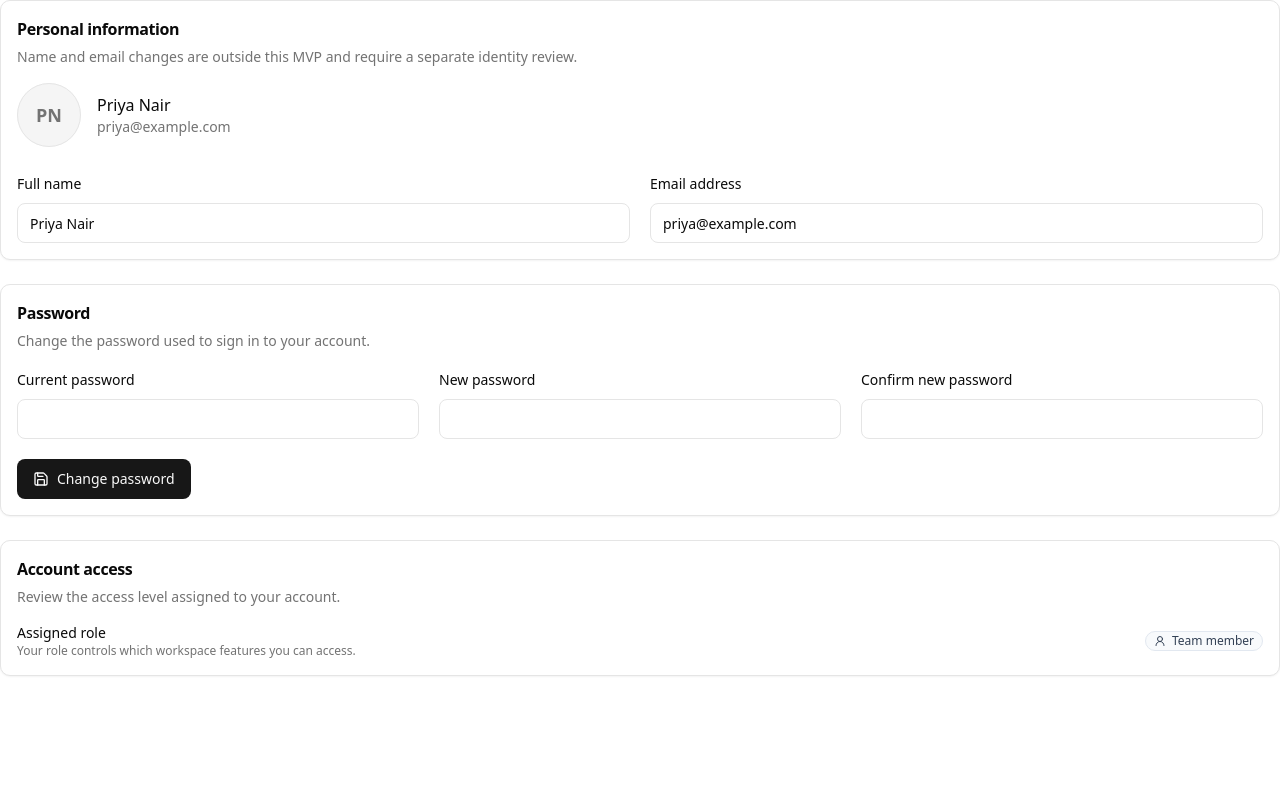
Test case: ProfileSettings › validates matching password confirmation before submitting
Type "Password123!" into the password field labelled "Current password" at (218, 419), box [17,399,419,439]
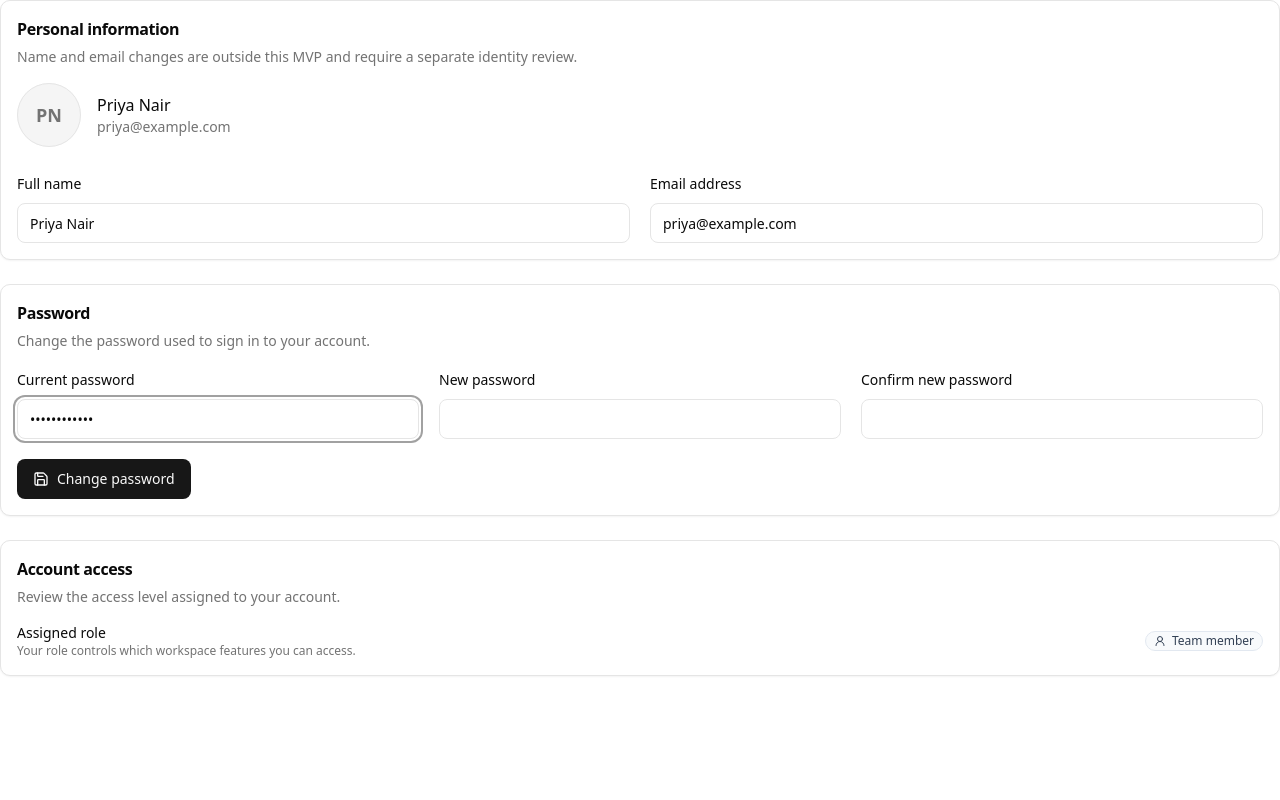
Type "NewPassword123" into the password field labelled "New password" at (640, 419), box [439,399,841,439]
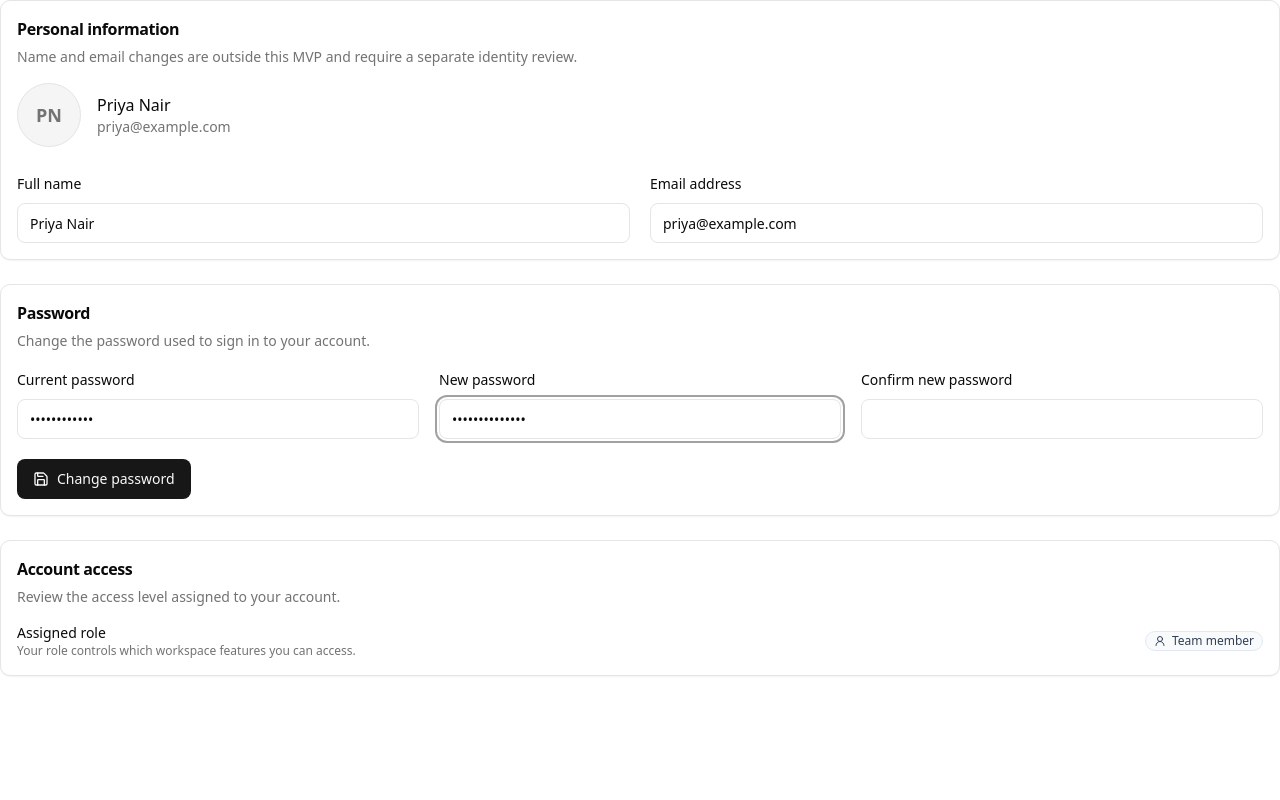
Type "DifferentPassword123" into the password field labelled "Confirm new password" at (1062, 419), box [861,399,1263,439]
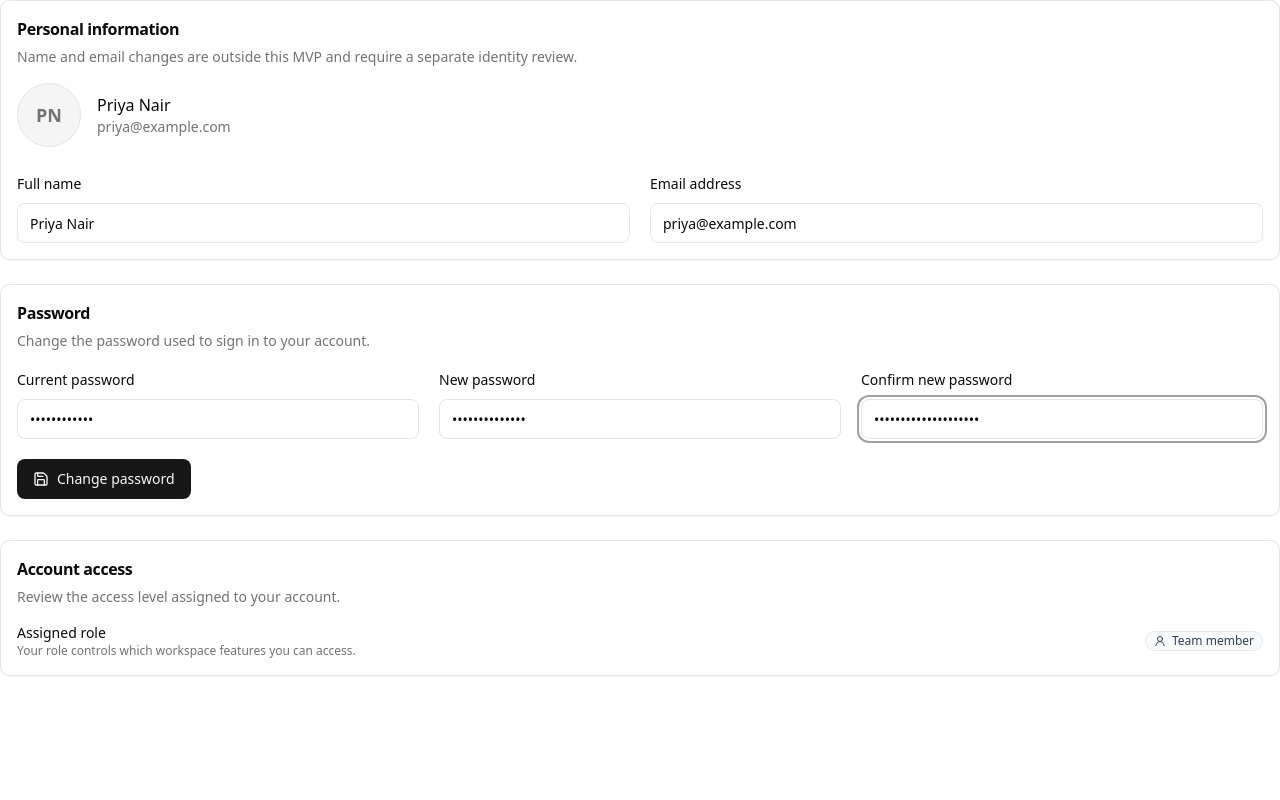
Click the button "Change password" at (104, 479), box [17,459,191,499]
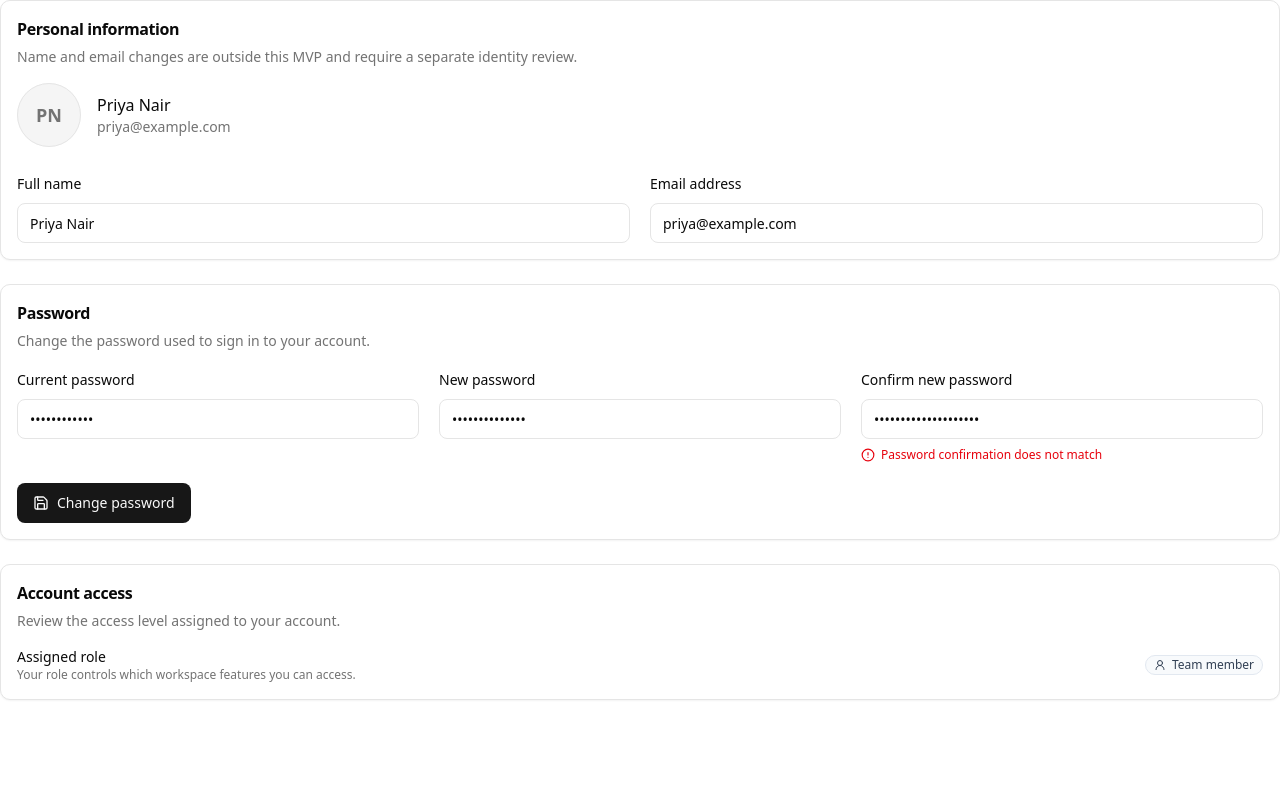
Now the text "Password confirmation does not match" is shown, box [861,446,1102,463]
